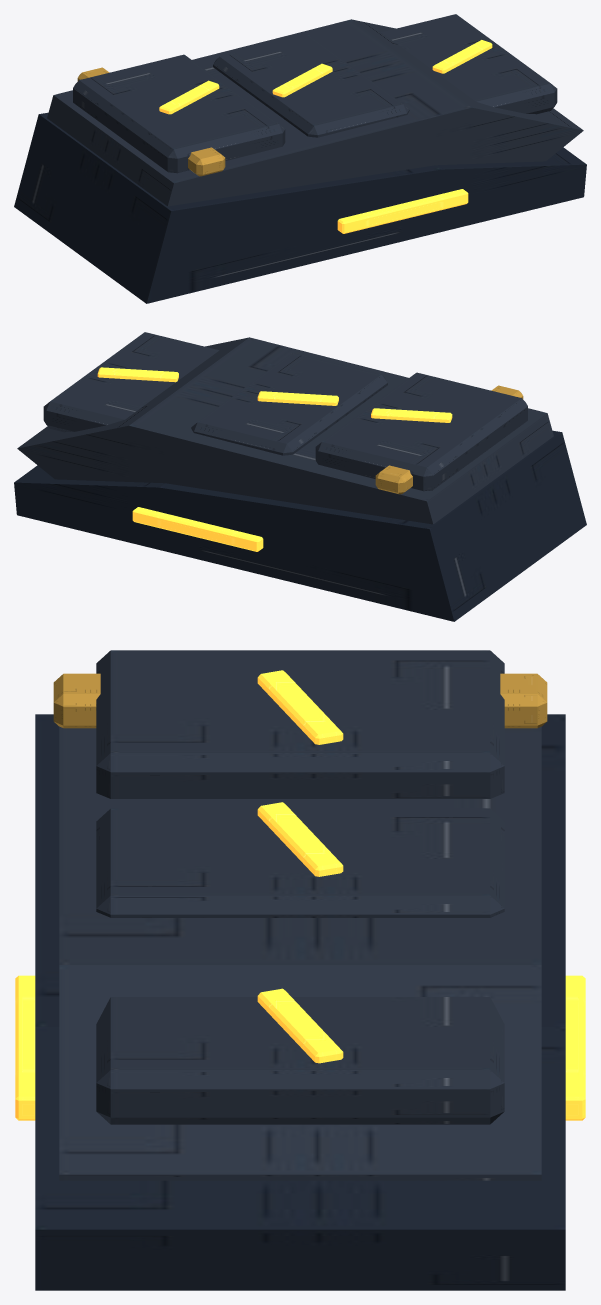
The model's file is magma.glb.
The picture shows the model from 3 angles, top to bottom: view 1: azimuth 30°, elevation 25°; view 2: azimuth 150°, elevation 25°; view 3: azimuth 270°, elevation 25°; orthographic projection. The views are drawn at different scales.
Parts seen in each view (by area): view 1: foot_L, foot_R; view 2: foot_L; view 3: foot_L, foot_R.
Boxes of the visible parts, <box> form: foot_L: <box>14,14,586,303</box>; foot_R: <box>188,147,225,176</box>; foot_L: <box>14,332,586,621</box>; foot_L: <box>15,650,585,1290</box>; foot_R: <box>53,673,100,728</box>.
Bounding box in the file's own units: 0.305 × 0.088 × 0.17.
Materials: 4 (4 with a texture image).
